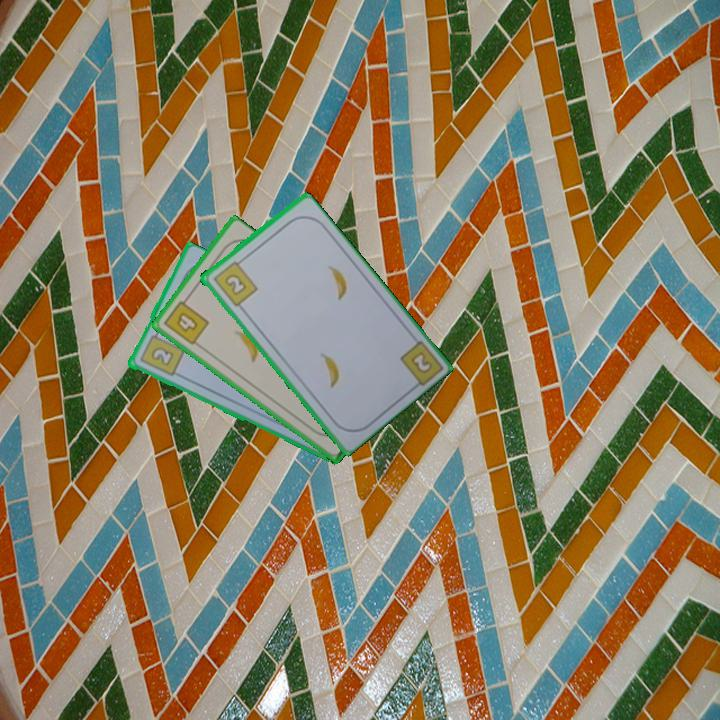2b: (209, 255, 260, 309), (136, 327, 187, 379), (407, 348, 435, 376)
4b: (160, 293, 212, 348)
